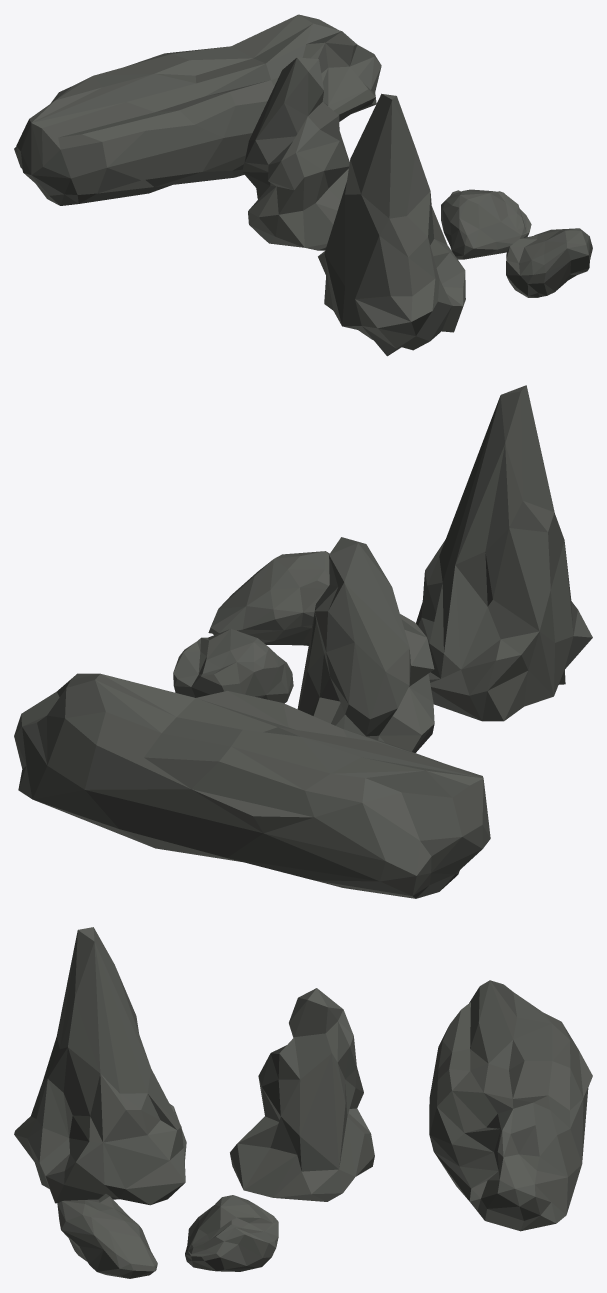
The model's file is rocks.fbx.
3 renders of one model, top to bottom at view 1: azimuth 30°, elevation 25°; view 2: azimuth 150°, elevation 25°; view 3: azimuth 270°, elevation 25°, orthographic. The views are drawn at different scales.
Visible parts, largest first — view 1: rockBoulder, rock, rock2, smallrock2, smallrock; view 2: rockBoulder, rock, rock2, smallrock, smallrock2; view 3: rockBoulder, rock, rock2, smallrock2, smallrock.
Boxes of the visible parts, x1,y1,x2,y2 form: rockBoulder: [14, 14, 381, 205]; rock: [318, 93, 465, 356]; rock2: [242, 57, 349, 250]; smallrock2: [441, 189, 531, 259]; smallrock: [506, 228, 592, 297]; rockBoulder: [14, 673, 490, 898]; rock: [416, 385, 592, 721]; rock2: [297, 537, 434, 752]; smallrock: [208, 551, 329, 645]; smallrock2: [173, 629, 293, 703]; rockBoulder: [429, 980, 592, 1231]; rock: [14, 927, 186, 1205]; rock2: [230, 988, 374, 1201]; smallrock2: [185, 1195, 278, 1271]; smallrock: [57, 1193, 157, 1278].
Bounding box in the file's own units: 5.03 × 3.08 × 6.21.
